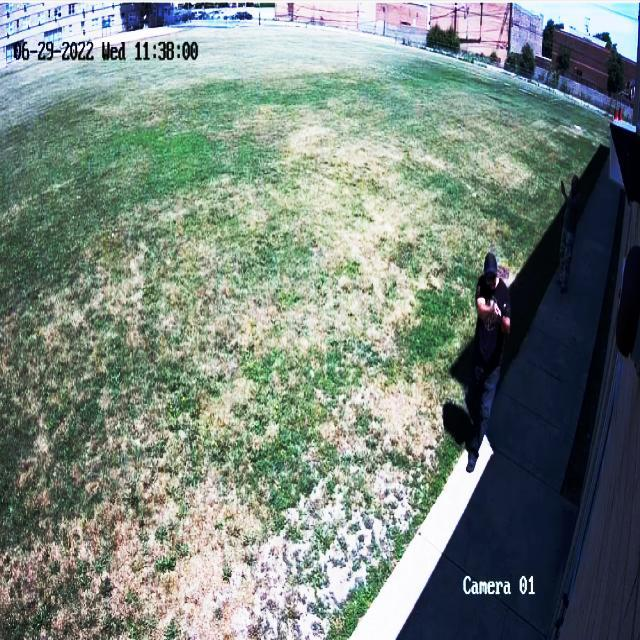Gun: (481, 289, 514, 323)
